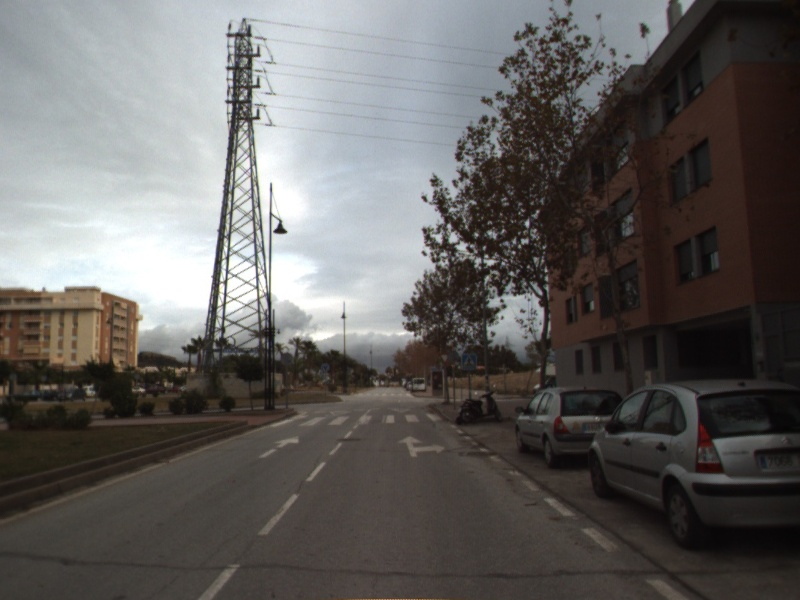STRAIGHT: (257, 434, 301, 460)
STRAIGHT_RIGHT: (396, 434, 447, 459)
